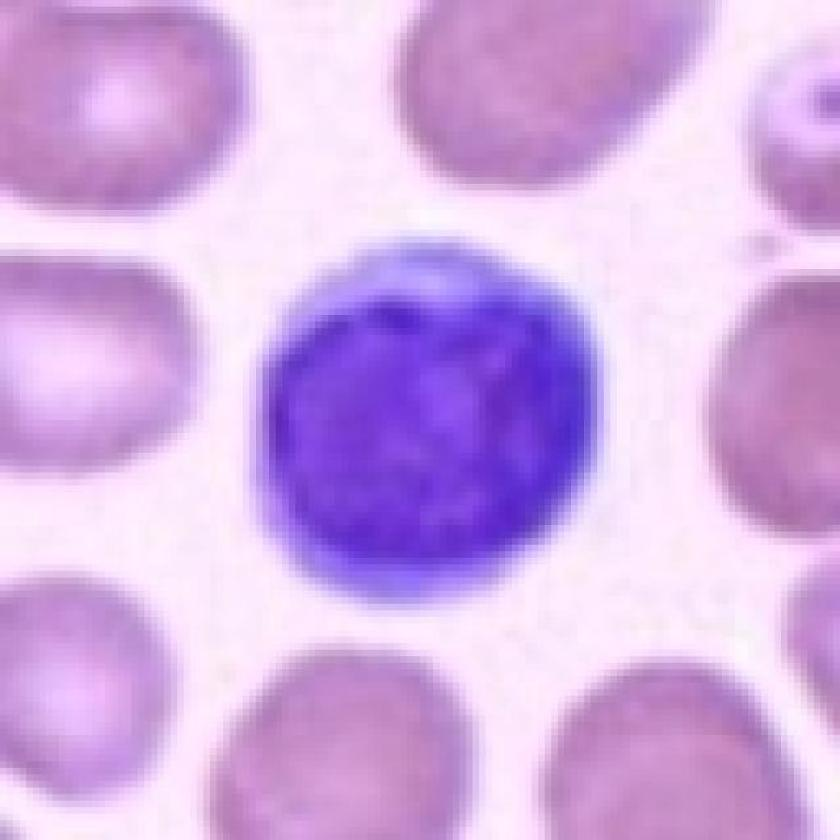lymphocyte: (247, 236, 612, 609)
